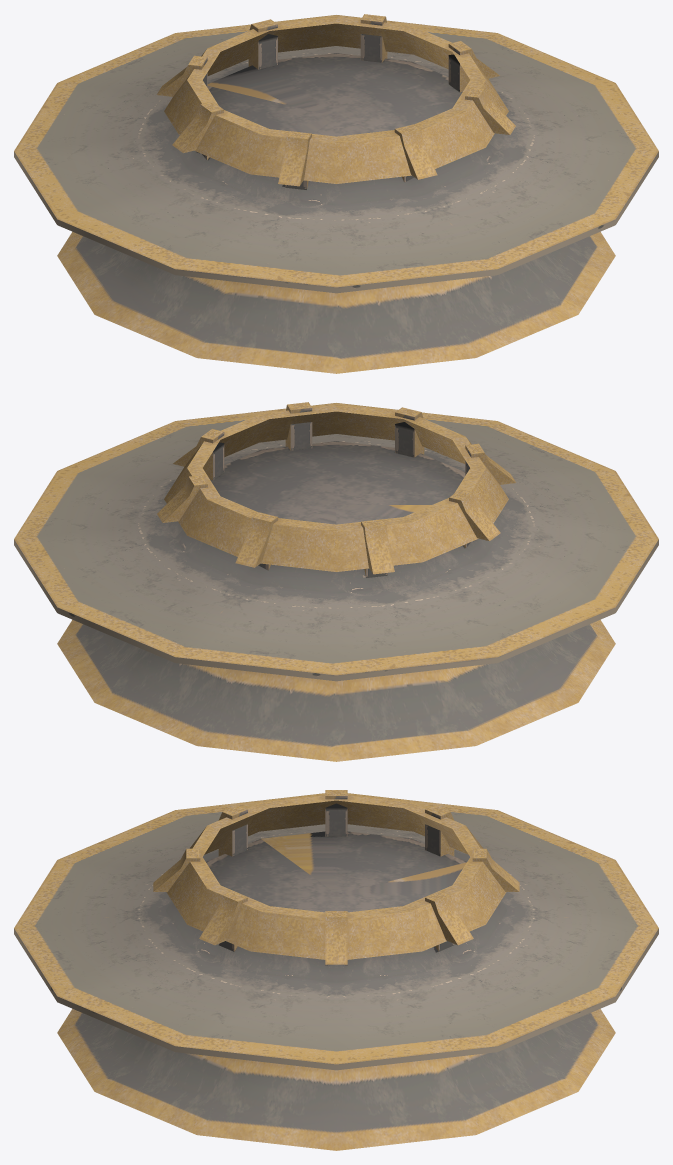
File: mod_zlc_jianzhu008_xy.FBX
3 renders of one model, top to bottom at view 1: azimuth 30°, elevation 25°; view 2: azimuth 150°, elevation 25°; view 3: azimuth 270°, elevation 25°, orthographic.
Visible parts, largest first — view 1: mod_zlc_jianzhu008_xy; view 2: mod_zlc_jianzhu008_xy; view 3: mod_zlc_jianzhu008_xy.
Part boxes in pixels (x1,y1,x2,y2): mod_zlc_jianzhu008_xy: (14,14,658,373); mod_zlc_jianzhu008_xy: (14,402,658,761); mod_zlc_jianzhu008_xy: (14,790,658,1150).
Size of the model in its own units: 9.76 by 3.42 by 9.76.
Materials: 1 (1 with a texture image).
